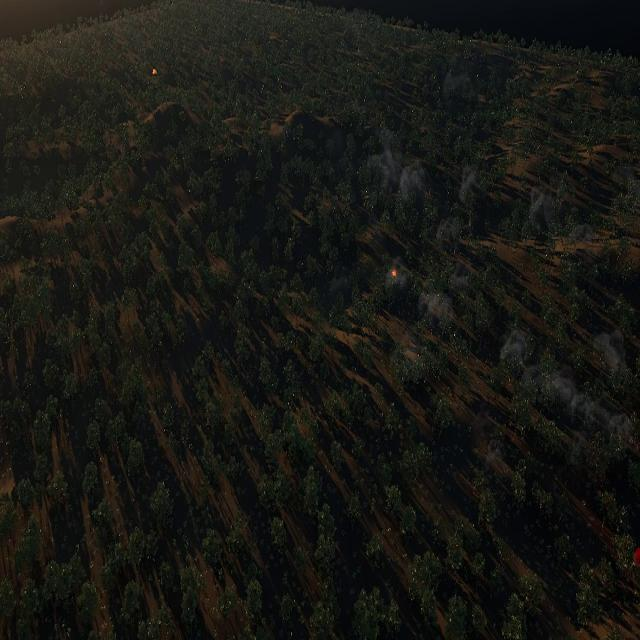fire: (634, 547, 640, 568), (150, 68, 157, 77), (391, 269, 397, 279)
smoke: (552, 372, 624, 436), (378, 135, 429, 200), (597, 330, 625, 370), (500, 331, 527, 364), (529, 190, 551, 228), (389, 261, 411, 292), (459, 166, 477, 197), (330, 269, 350, 294)
